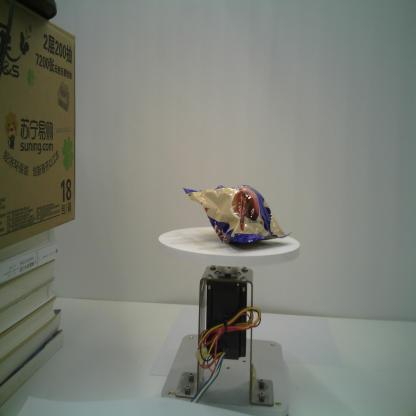Dessert: (182, 183, 293, 244)
